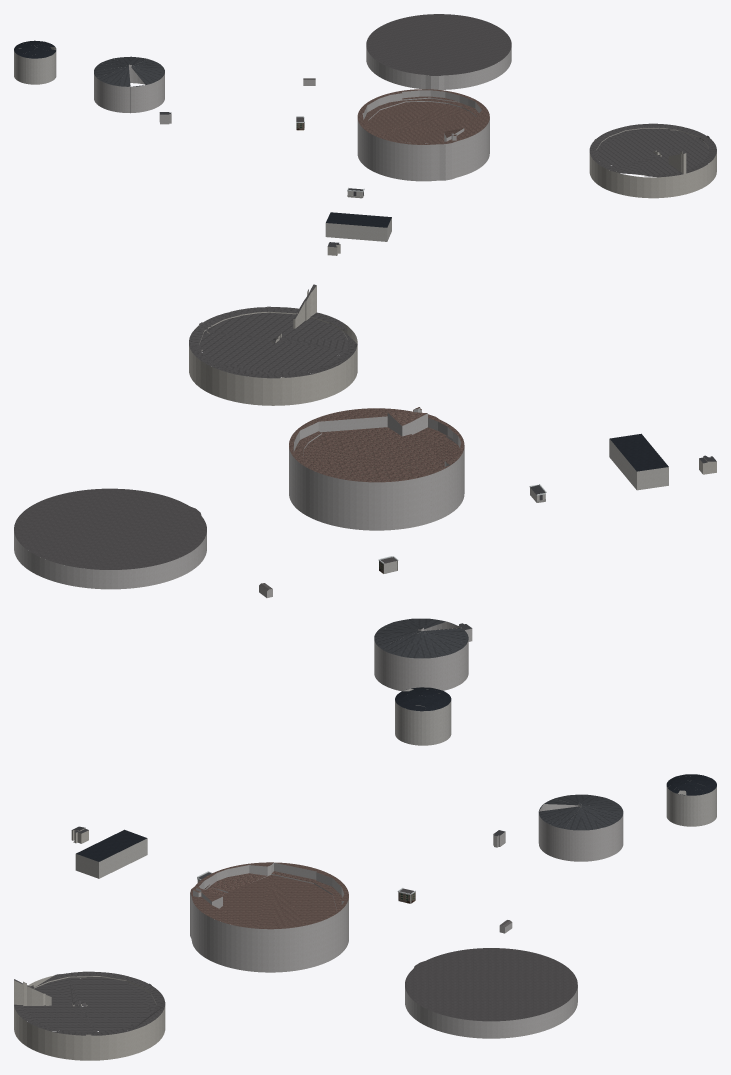
3 renders of one model, top to bottom at view 1: azimuth 30°, elevation 25°; view 2: azimuth 150°, elevation 25°; view 3: azimuth 270°, elevation 25°, orthographic. The views are drawn at different scales.
Parts seen in each view (by area): view 1: bldg_6000072643_roof, bldg_6000072641, bldg_6000072644_roof, bldg_6000072641_roof, bldg_6000072644, bldg_6000072643, bldg_6000064667, bldg_6000064667_roof, bldg_6000064660, bldg_6004321021, bldg_6004321021_roof, bldg_6000064660_roof; view 2: bldg_6000072643_roof, bldg_6000072641, bldg_6000072644_roof, bldg_6000072641_roof, bldg_6000072644, bldg_6000072643, bldg_6000064667, bldg_6000064667_roof, bldg_6000064660, bldg_6004321021_roof, bldg_6004321021, bldg_6000064660_roof; view 3: bldg_6000072643_roof, bldg_6000072641, bldg_6000072644_roof, bldg_6000072641_roof, bldg_6000072644, bldg_6000072643, bldg_6000064667, bldg_6000064667_roof, bldg_6000064660, bldg_6004321021, bldg_6004321021_roof, bldg_6000064660_roof.
Part boxes in pixels (x1,y1,x2,y2): bldg_6000072643_roof: (366, 14, 511, 75); bldg_6000072641: (357, 90, 489, 181); bldg_6000072644_roof: (589, 123, 716, 177); bldg_6000072641_roof: (357, 89, 489, 144); bldg_6000072644: (589, 128, 716, 198); bldg_6000072643: (366, 47, 511, 90); bldg_6000064667: (94, 59, 164, 113); bldg_6000064667_roof: (94, 56, 164, 86); bldg_6000064660: (14, 43, 56, 84); bldg_6004321021: (325, 217, 391, 241); bldg_6004321021_roof: (326, 212, 391, 227); bldg_6000064660_roof: (14, 40, 56, 58); bldg_6000072643_roof: (14, 488, 206, 569); bldg_6000072641: (289, 407, 464, 530); bldg_6000072644_roof: (189, 284, 357, 378); bldg_6000072641_roof: (289, 407, 464, 482); bldg_6000072644: (189, 285, 357, 405); bldg_6000072643: (14, 531, 206, 589); bldg_6000064667: (374, 621, 468, 691); bldg_6000064667_roof: (374, 618, 468, 658); bldg_6000064660: (395, 688, 451, 745); bldg_6004321021_roof: (610, 433, 668, 471); bldg_6004321021: (609, 439, 668, 490); bldg_6000064660_roof: (395, 687, 451, 711); bldg_6000072643_roof: (405, 948, 577, 1021); bldg_6000072641: (190, 862, 348, 972); bldg_6000072644_roof: (14, 971, 165, 1035); bldg_6000072641_roof: (190, 862, 348, 929); bldg_6000072644: (14, 975, 165, 1060); bldg_6000072643: (405, 985, 577, 1038); bldg_6000064667: (538, 804, 623, 861); bldg_6000064667_roof: (538, 794, 623, 830); bldg_6000064660: (666, 776, 716, 826); bldg_6004321021: (75, 838, 147, 878); bldg_6004321021_roof: (76, 829, 146, 861); bldg_6000064660_roof: (666, 774, 716, 795).
Size of the model in its own units: 242 by 22.64 by 282.
Materials: 14 (11 with a texture image).
